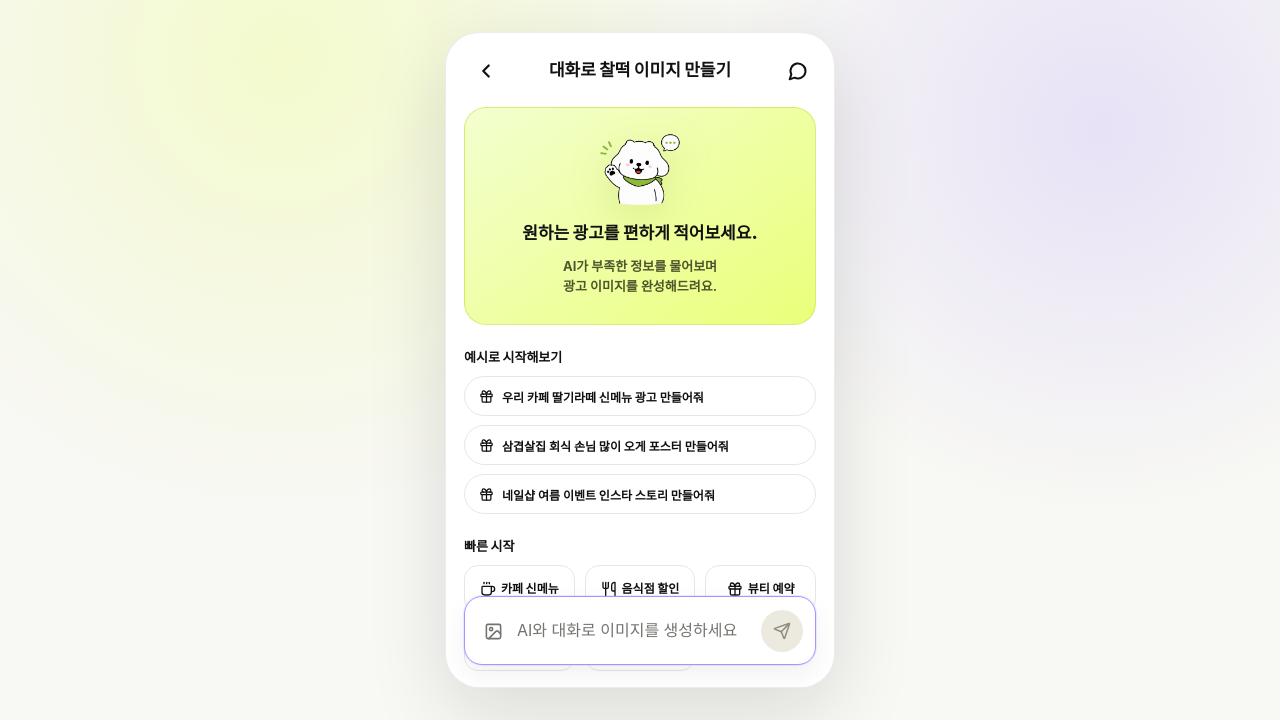
Scenario: ChatGenerateClient › shows context from an initial graph job option question for reference-style requests
Type "고기집 원육 세팅 피드 스타일로 고기99의 음식점 광고를 만들어줘" into the text box named "광고 요청 입력" at [635, 630], box left=517, top=609, right=753, bottom=652
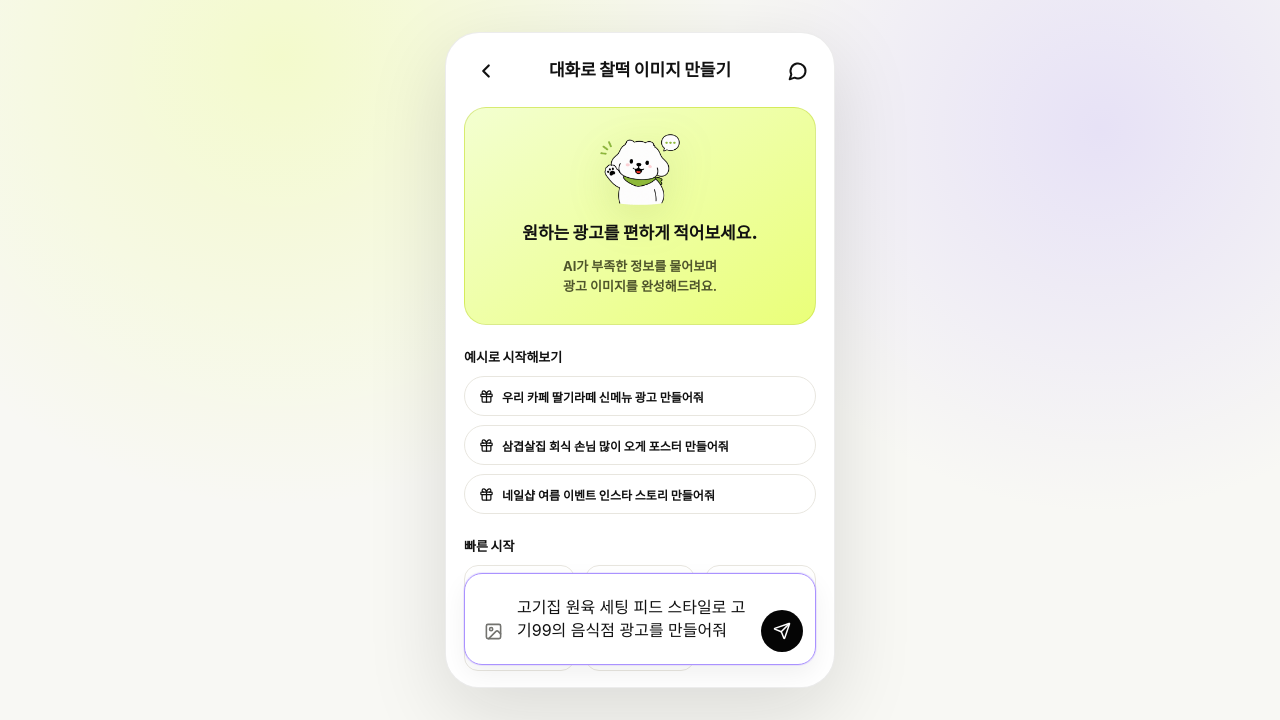
Click the button named "요청 보내기" at [782, 631], box left=761, top=610, right=803, bottom=652
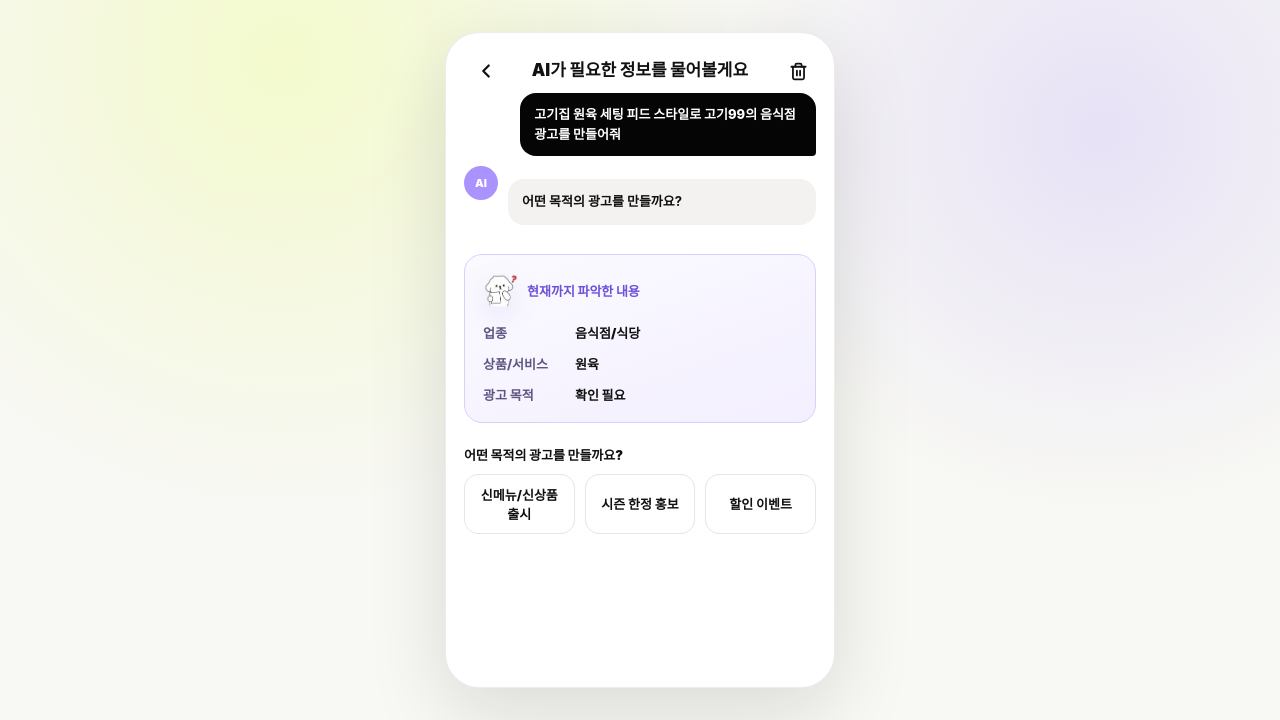
Expected: the text "어떤 목적의 광고를 만들까요?" is shown, left=508, top=179, right=816, bottom=224
Expected: the text "음식점/식당" is shown, left=575, top=325, right=640, bottom=341
Expected: the text "원육" is shown, left=575, top=356, right=599, bottom=372
